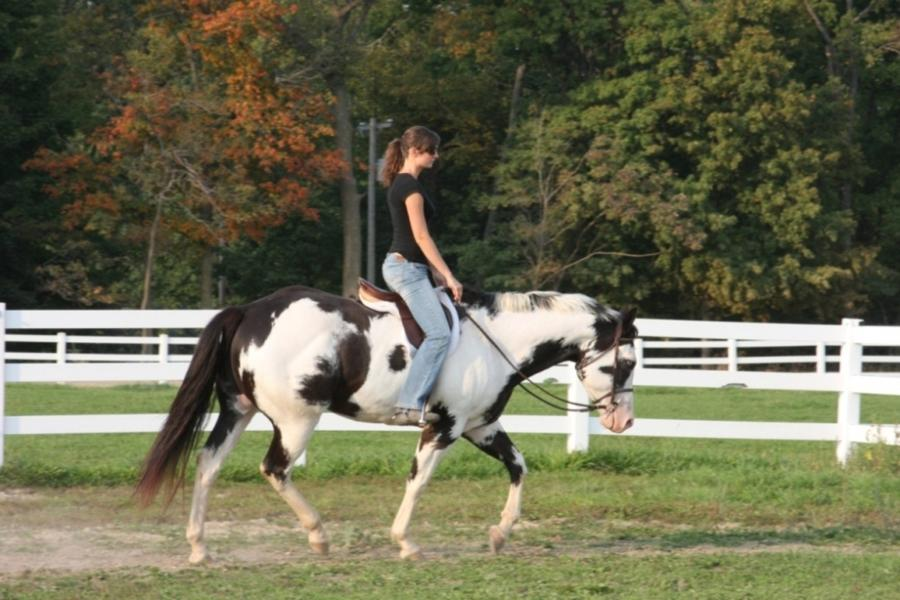person: (383, 124, 466, 432)
